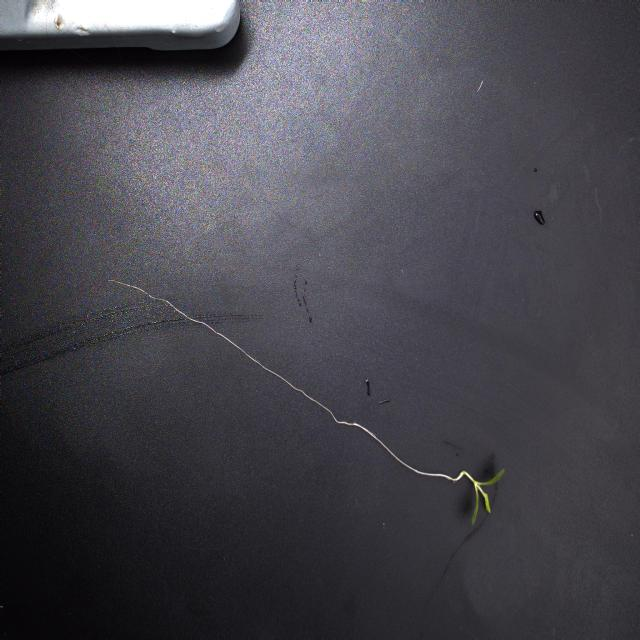leaf: (469, 493, 494, 526)
root: (104, 274, 467, 486)
steb: (464, 473, 487, 497)
